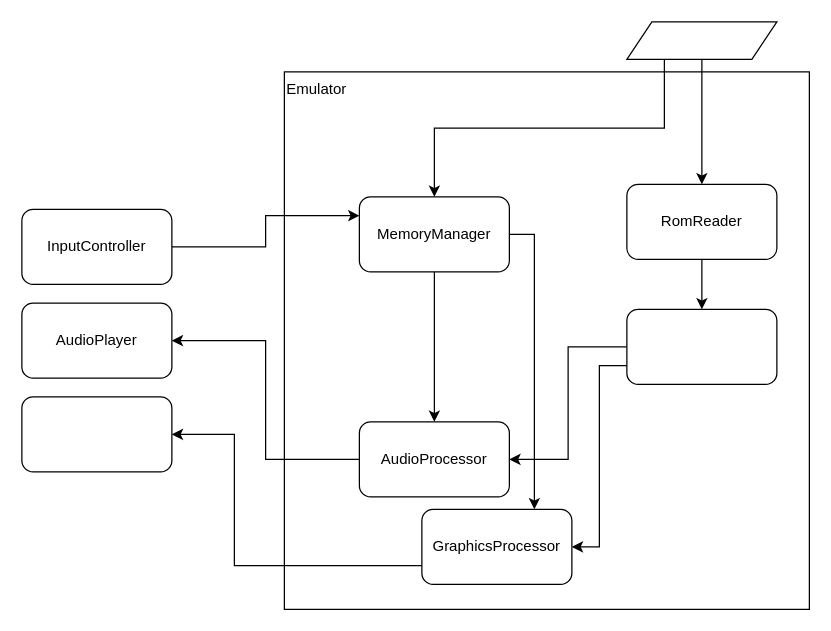
Some shapes in this 831 by 631 pixel diagram are drawn without their labels. The box of each missing label's shape, as (x1, y1, x2, y2) in pixels:
InstructionProcessor: (626, 308, 777, 384)
ROM: (626, 21, 777, 59)
Window: (21, 396, 172, 472)
